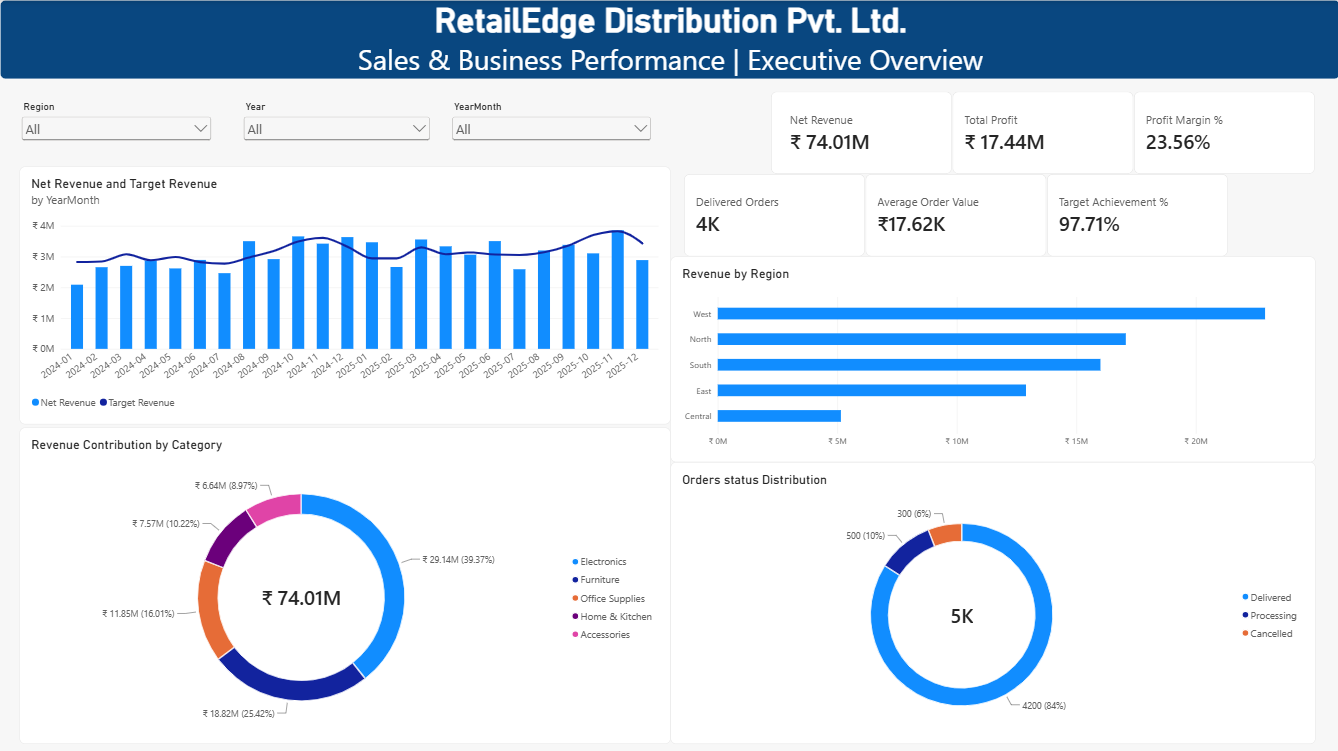

Layout of this report page (visuals, bound fields, positions):
{"tool":"powerbi","page":{"name":"Executive_Overview ","canvas":[1920,1080],"ordinal":0},"visuals":[{"type":"cardVisual","fields":{"Data":["_Measures.Net Revenue"]},"box":[1104.4,131.1,260,118.2],"z":0},{"type":"cardVisual","fields":{"Data":["_Measures.Target Achievement %"]},"box":[1499.7,249.2,260,118.2],"z":1000},{"type":"cardVisual","fields":{"Data":["_Measures.Total Profit"]},"box":[1364.4,131.1,260,118.2],"z":2000},{"type":"cardVisual","fields":{"Data":["_Measures.Profit Margin %"]},"box":[1624.3,131.1,260,118.2],"z":3000},{"type":"cardVisual","fields":{"Data":["_Measures.Delivered Orders"]},"box":[979.8,249.2,260,118.2],"z":4000},{"type":"cardVisual","fields":{"Data":["_Measures.Average Order Value"]},"box":[1239.7,249.2,260,118.2],"z":5000},{"type":"slicer","fields":{"Values":["DimRegion.Region"]},"box":[25.8,144,281.6,95.4],"z":6000},{"type":"slicer","fields":{"Values":["DimMonth.Year"]},"box":[343.8,144,277.1,95.4],"z":7000},{"type":"slicer","fields":{"Values":["DimMonth.YearMonth"]},"box":[642.4,144,295.3,99.9],"z":8000},{"type":"clusteredBarChart","title":"Revenue by Region","fields":{"Category":["DimRegion.Region"],"Y":["_Measures.Net Revenue"]},"box":[960.4,367.4,923.9,294.4],"z":9000},{"type":"donutChart","title":"Revenue Contribution by Category","fields":{"Category":["products.category"],"Y":["_Measures.Net Revenue"]},"box":[27.9,612.3,932.5,453.4],"z":10000},{"type":"donutChart","title":"Orders status Distribution","fields":{"Category":["orders.order_status"],"Y":["_Measures.Total Orders"]},"box":[960.4,661.8,923.9,403.9],"z":11000},{"type":"lineClusteredColumnComboChart","fields":{"Category":["DimMonth.YearMonth"],"Y":["_Measures.Net Revenue"],"Y2":["_Measures.Target Revenue"]},"box":[27.9,238.5,932.5,369.6],"z":12000},{"type":"textbox","title":"RetailEdge Distribution Pvt. Ltd.","box":[0,0,1919.3,113.6],"z":13000}]}

Visuals, with their boxes in screenshot pixels (x1, y1, x2, y2), scaled from the page's 1920x1080 canvas onto the 1338x751 screenshot:
cardVisual - _Measures.Net Revenue: box=[770, 91, 951, 173]
cardVisual - _Measures.Target Achievement %: box=[1045, 173, 1226, 255]
cardVisual - _Measures.Total Profit: box=[951, 91, 1132, 173]
cardVisual - _Measures.Profit Margin %: box=[1132, 91, 1313, 173]
cardVisual - _Measures.Delivered Orders: box=[683, 173, 864, 255]
cardVisual - _Measures.Average Order Value: box=[864, 173, 1045, 255]
slicer - DimRegion.Region: box=[18, 100, 214, 166]
slicer - DimMonth.Year: box=[240, 100, 433, 166]
slicer - DimMonth.YearMonth: box=[448, 100, 653, 170]
"Revenue by Region" clusteredBarChart: box=[669, 255, 1313, 460]
"Revenue Contribution by Category" donutChart: box=[19, 426, 669, 741]
"Orders status Distribution" donutChart: box=[669, 460, 1313, 741]
lineClusteredColumnComboChart - DimMonth.YearMonth x _Measures.Net Revenue: box=[19, 166, 669, 423]
"RetailEdge Distribution Pvt. Ltd." textbox: box=[0, 0, 1337, 79]
